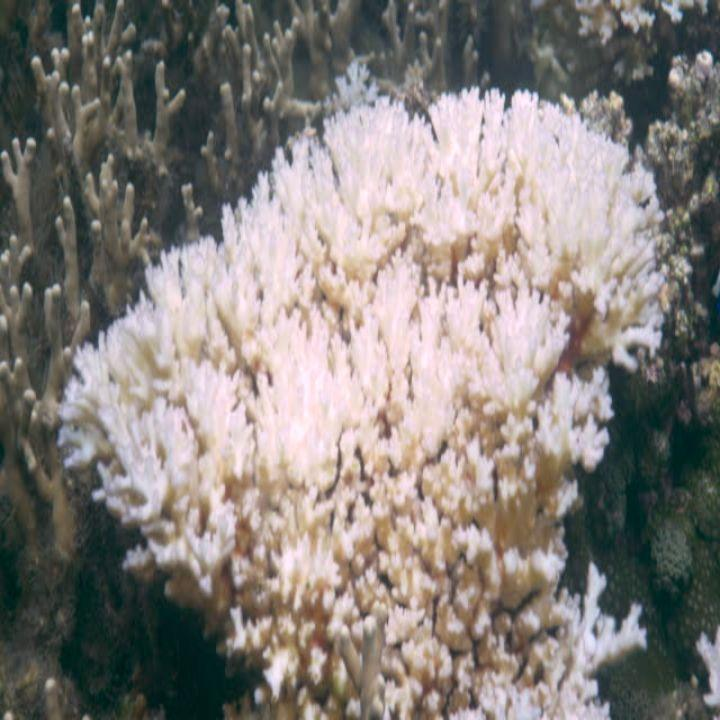Bleached disease: (48, 71, 672, 720)
